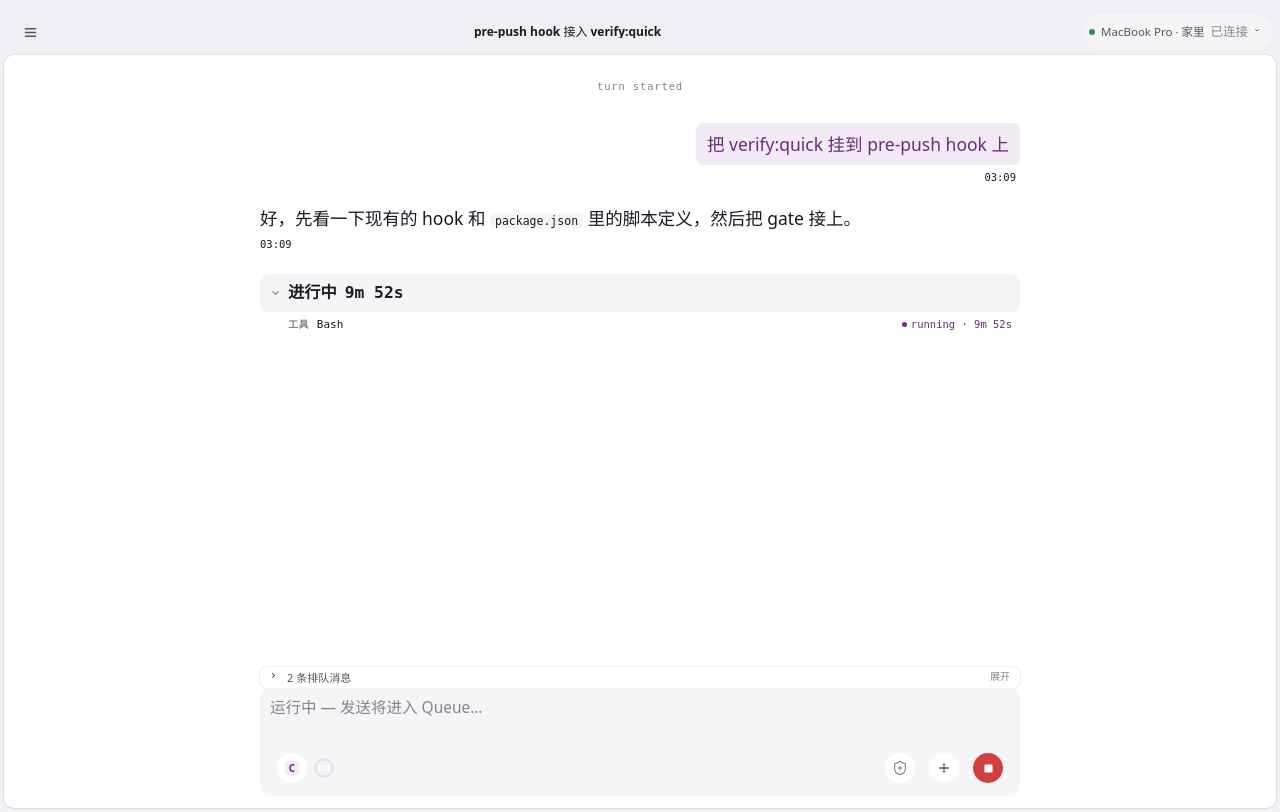
Scenario: queue UI (B6) › narrow layout collapses the queue into one summary row
The image size is (1280, 812).
Click the button "2 条排队消息 展开": (319, 677) [260, 666, 1020, 688]
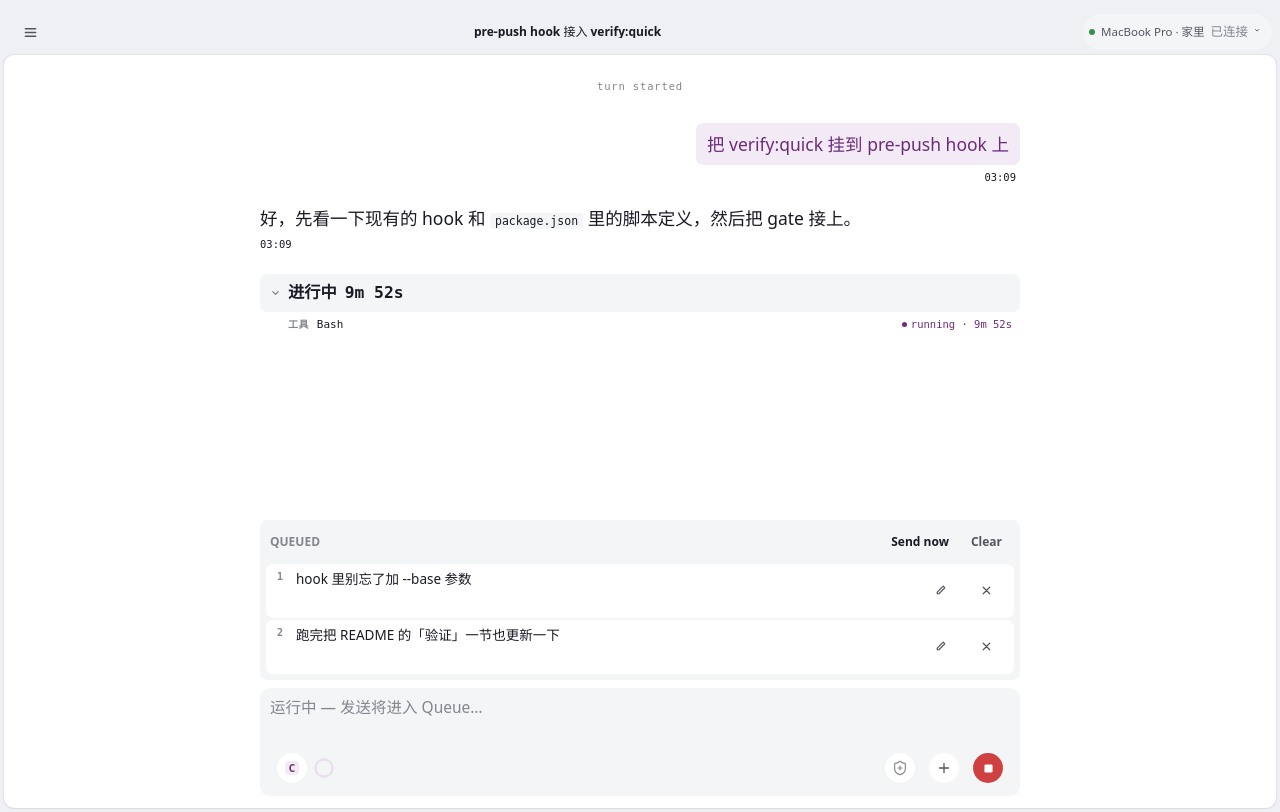
Expected: the element with test id "queue-drawer" is shown, [260, 520, 1020, 680]
